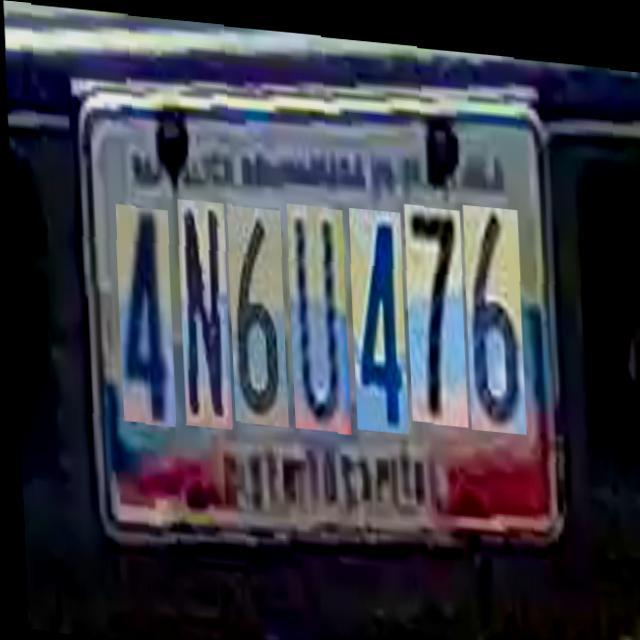4: (112, 202, 172, 422), (346, 196, 404, 422)
6: (460, 190, 522, 418), (223, 198, 284, 419)
7: (401, 191, 464, 412)
N: (174, 194, 228, 424)
U: (284, 194, 346, 423)
